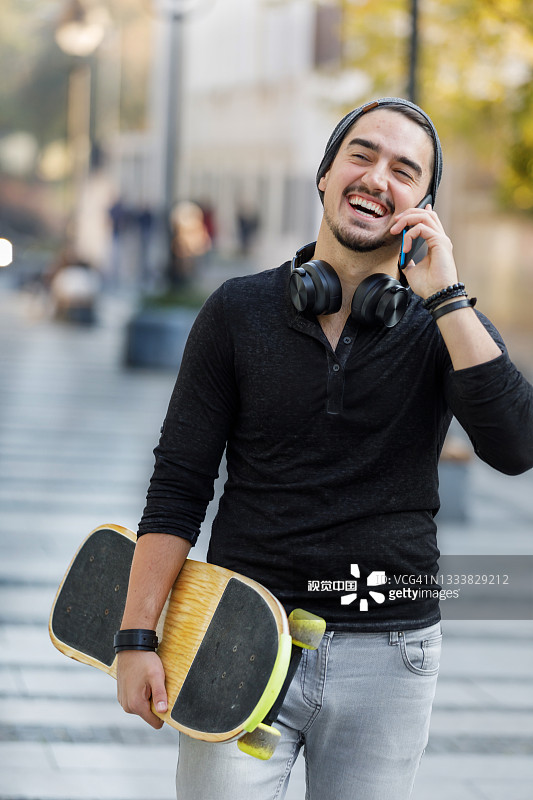calling: (381, 178, 486, 334)
no-phone: (35, 523, 300, 764)
